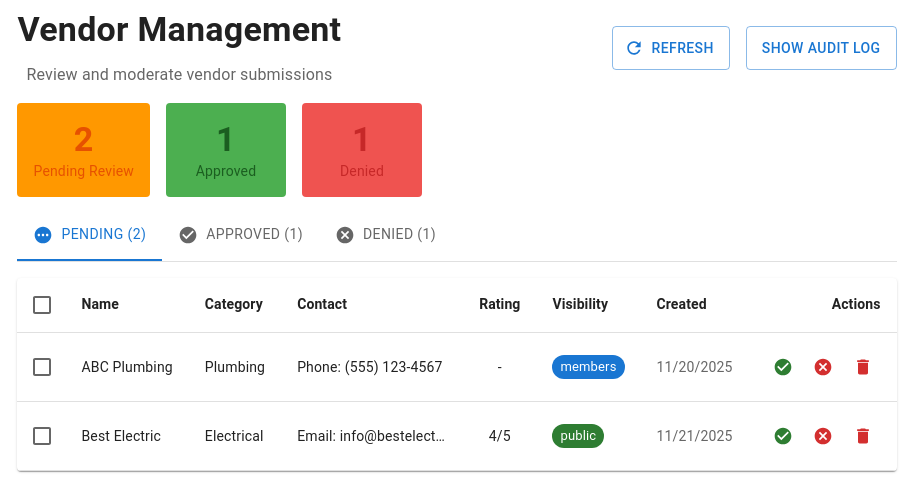
it: VendorManagement - Role Gating › Admin Access › allows switching between pending/approved/denied tabs
Expected: the text "ABC Plumbing" is shown, [82, 357, 173, 377]
Note: Click Approved tab
Click the tab "Approved (1)" at (241, 235), box [162, 213, 319, 257]
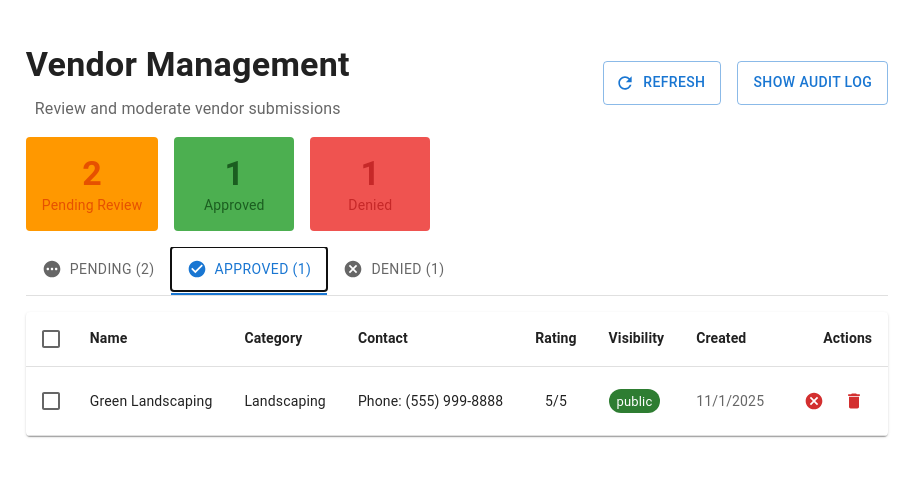
Expected: the text "Green Landscaping" is shown, [90, 391, 212, 411]
Note: Click Denied tab
Click the tab "Denied (1)" at (394, 270), box [327, 248, 460, 292]
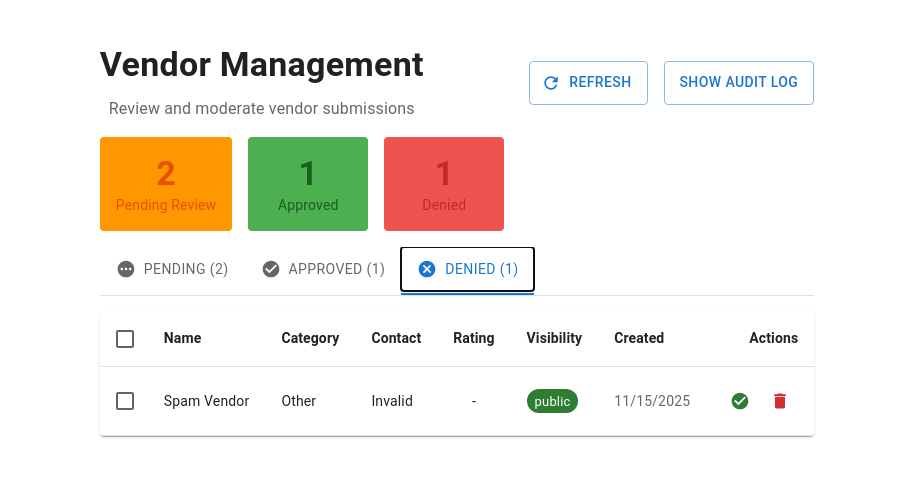
Expected: the text "Spam Vendor" is shown, [164, 391, 249, 411]
